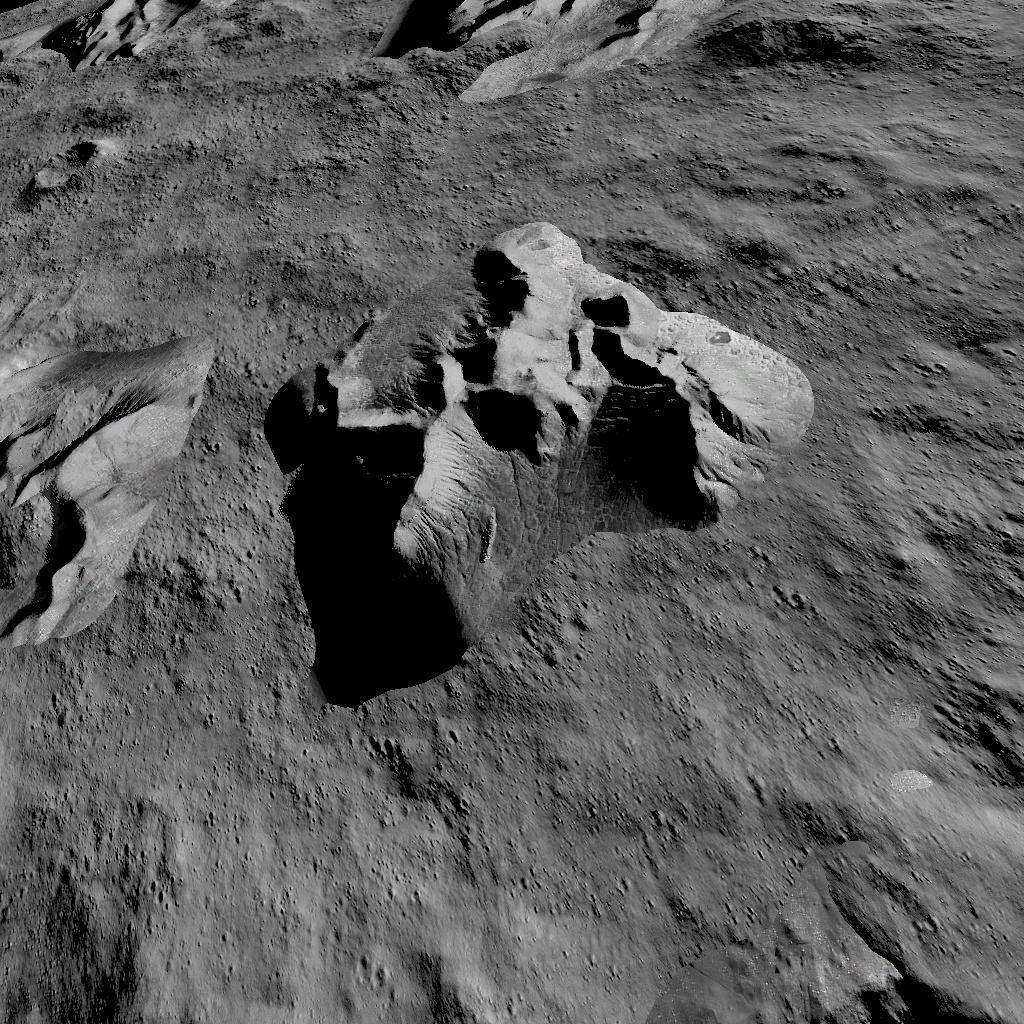Boulders: (264, 218, 820, 704), (0, 320, 222, 652), (373, 0, 710, 111), (0, 0, 227, 103), (721, 2, 881, 92)
Crater: (767, 912, 1024, 1024), (949, 666, 1024, 796), (11, 136, 115, 205), (246, 6, 288, 52)
Plan surface: (12, 724, 736, 1024), (839, 214, 1024, 634), (145, 124, 1020, 197), (763, 726, 940, 886), (8, 222, 250, 301), (901, 2, 1024, 94)
